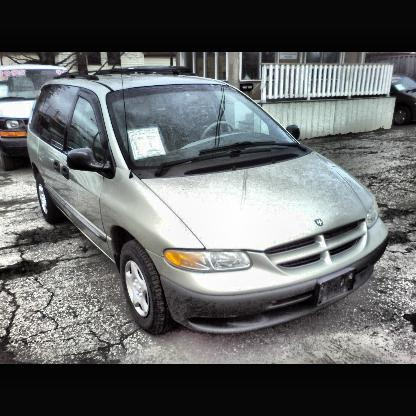Dodge Caravan Minivan 1997: (28, 73, 390, 339)
